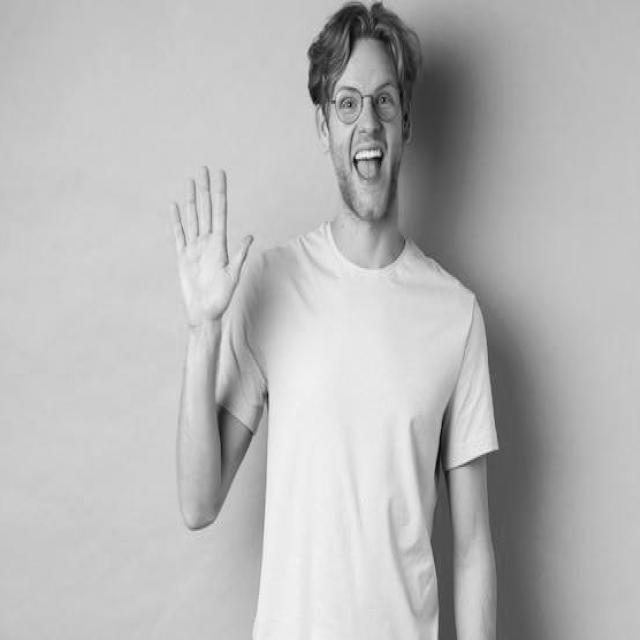stop: (163, 154, 258, 335)
